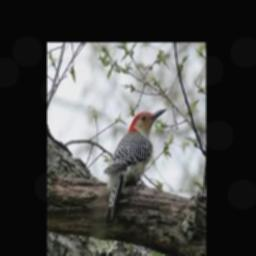Woodpecker: (104, 108, 167, 220)
